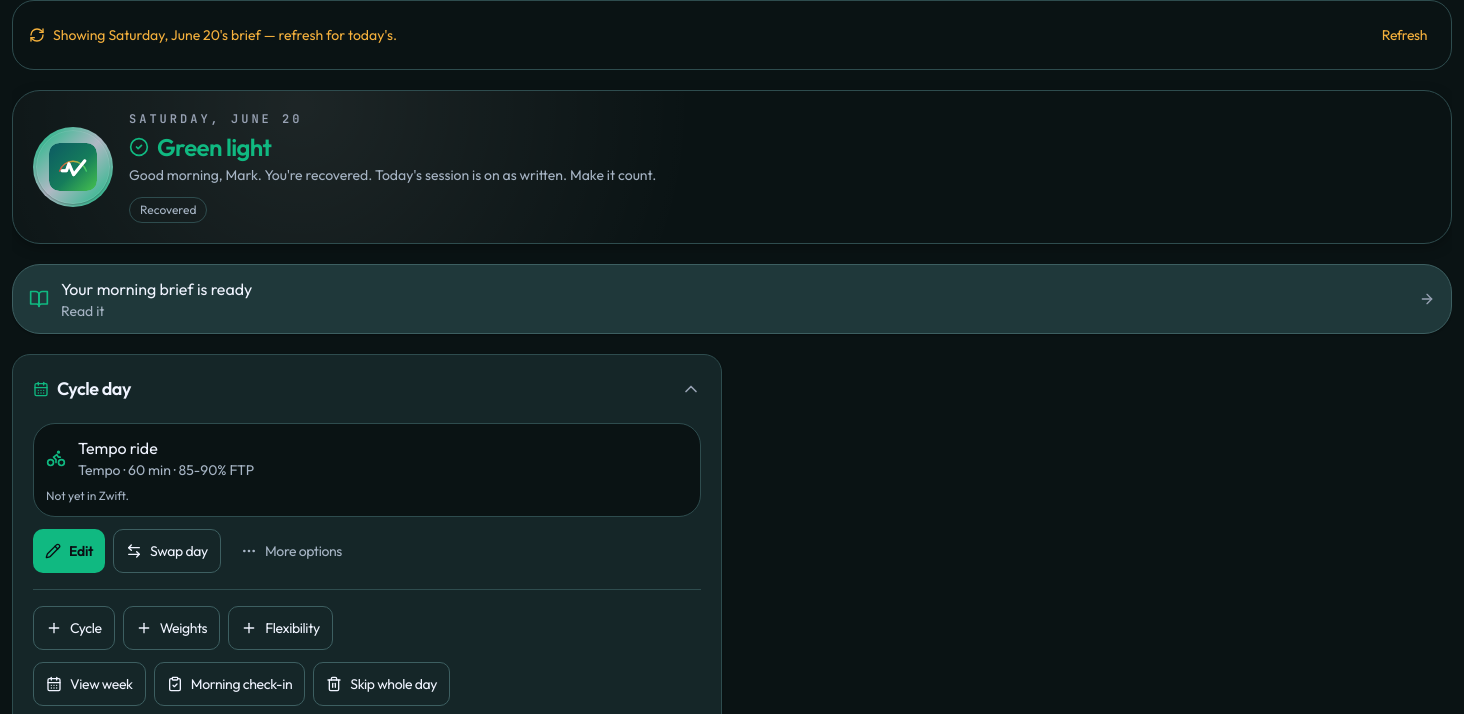
Test: DashboardPage › refreshes with a cache-bypassing refetch and clears the notice once today lands
This screenshot has width=1464, height=714.
expect the text "Showing Saturday, June 20's brief — refresh for today's." is shown: met, box 53,26 -> 397,44
Click the button "Refresh": (1404, 35) 1374,13 -> 1435,57
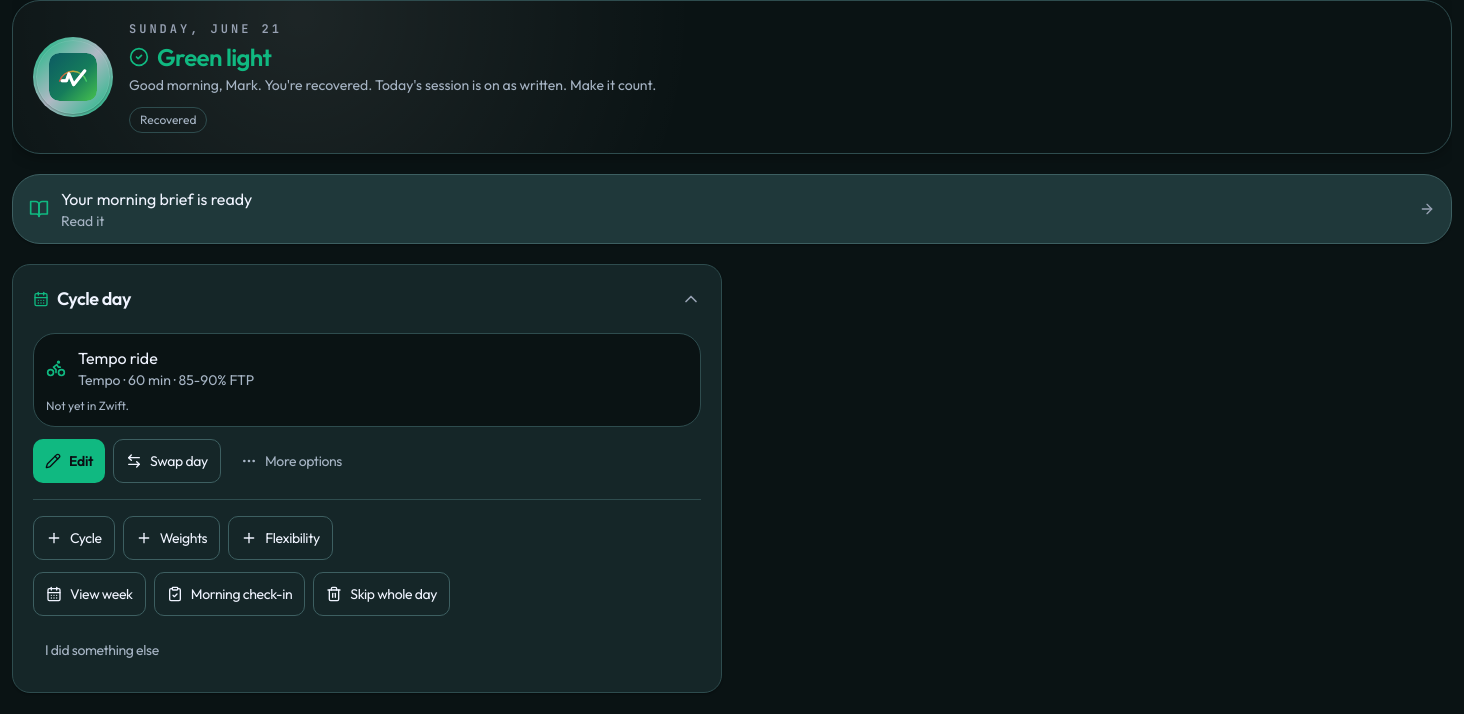
expect the text "refresh for today" is gone: met
